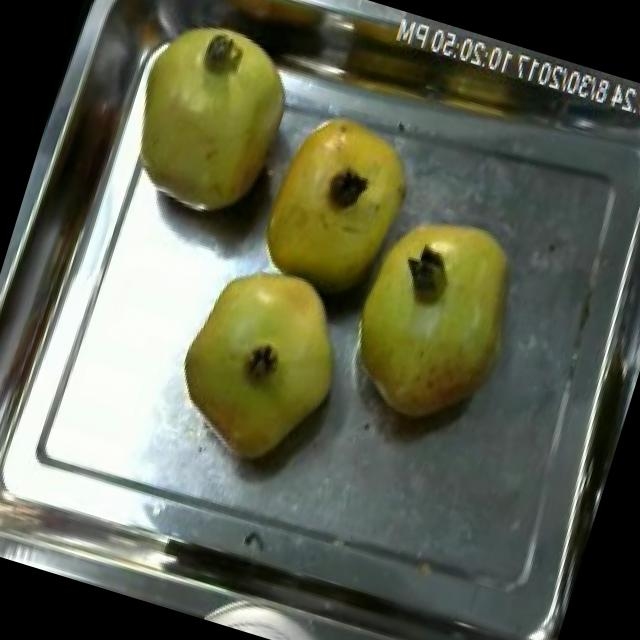fruit: (324, 186, 547, 452), (91, 0, 317, 243), (154, 242, 370, 490), (243, 90, 434, 312)
